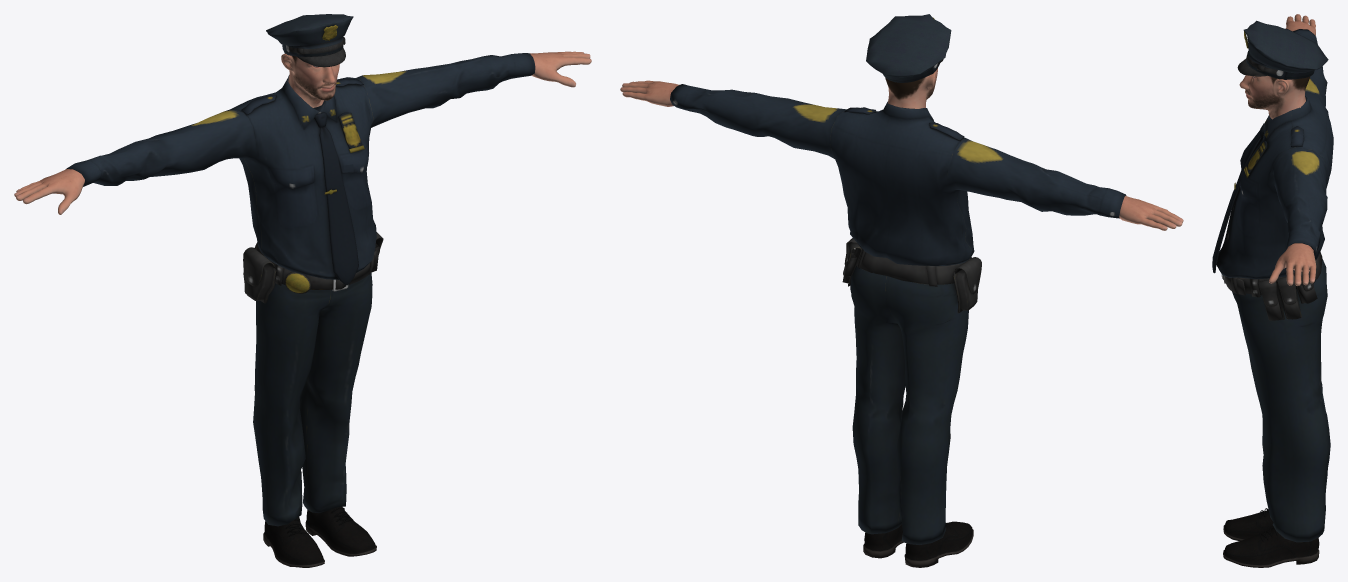
The model's file is Police.fbx.
3 renders of one model, left to right at view 1: azimuth 30°, elevation 25°; view 2: azimuth 150°, elevation 25°; view 3: azimuth 270°, elevation 25°, orthographic. The views are drawn at different scales.
Parts seen in each view (by area): view 1: Police; view 2: Police; view 3: Police.
Boxes of the visible parts, x1=… form: Police: x1=14, y1=14, x2=591, y2=567; Police: x1=620, y1=14, x2=1183, y2=567; Police: x1=1212, y1=14, x2=1333, y2=567.
Size of the model in its own units: 213 by 190 by 40.32.
1 material, 1 textured.
